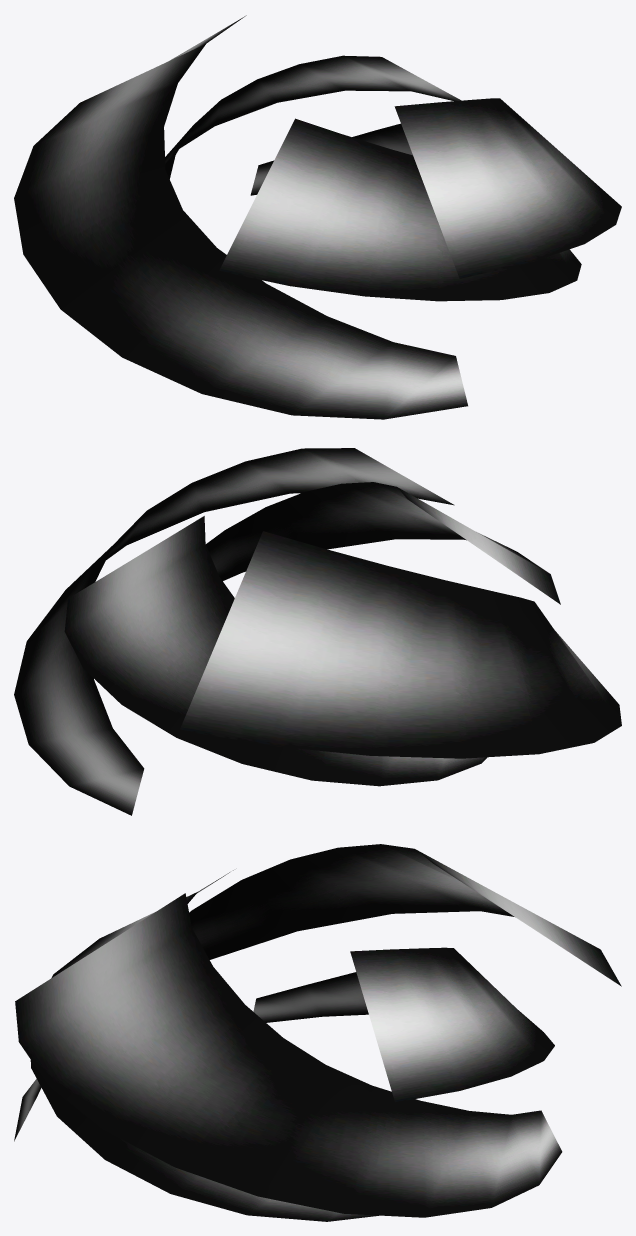
File: vfx_kurp_1069.dae
3 views of the same model, one above another, from view 1: azimuth 30°, elevation 25°; view 2: azimuth 150°, elevation 25°; view 3: azimuth 270°, elevation 25° (orthographic). The views are drawn at different scales.
Parts seen in each view (by area): view 1: vfx_kurp_1069; view 2: vfx_kurp_1069; view 3: vfx_kurp_1069.
Part boxes in pixels (x1,y1,x2,y2): vfx_kurp_1069: (14,15,621,419); vfx_kurp_1069: (14,448,621,815); vfx_kurp_1069: (14,844,621,1221).
Size of the model in its own units: 11.18 by 10.65 by 5.16.
1 material, 1 textured.
